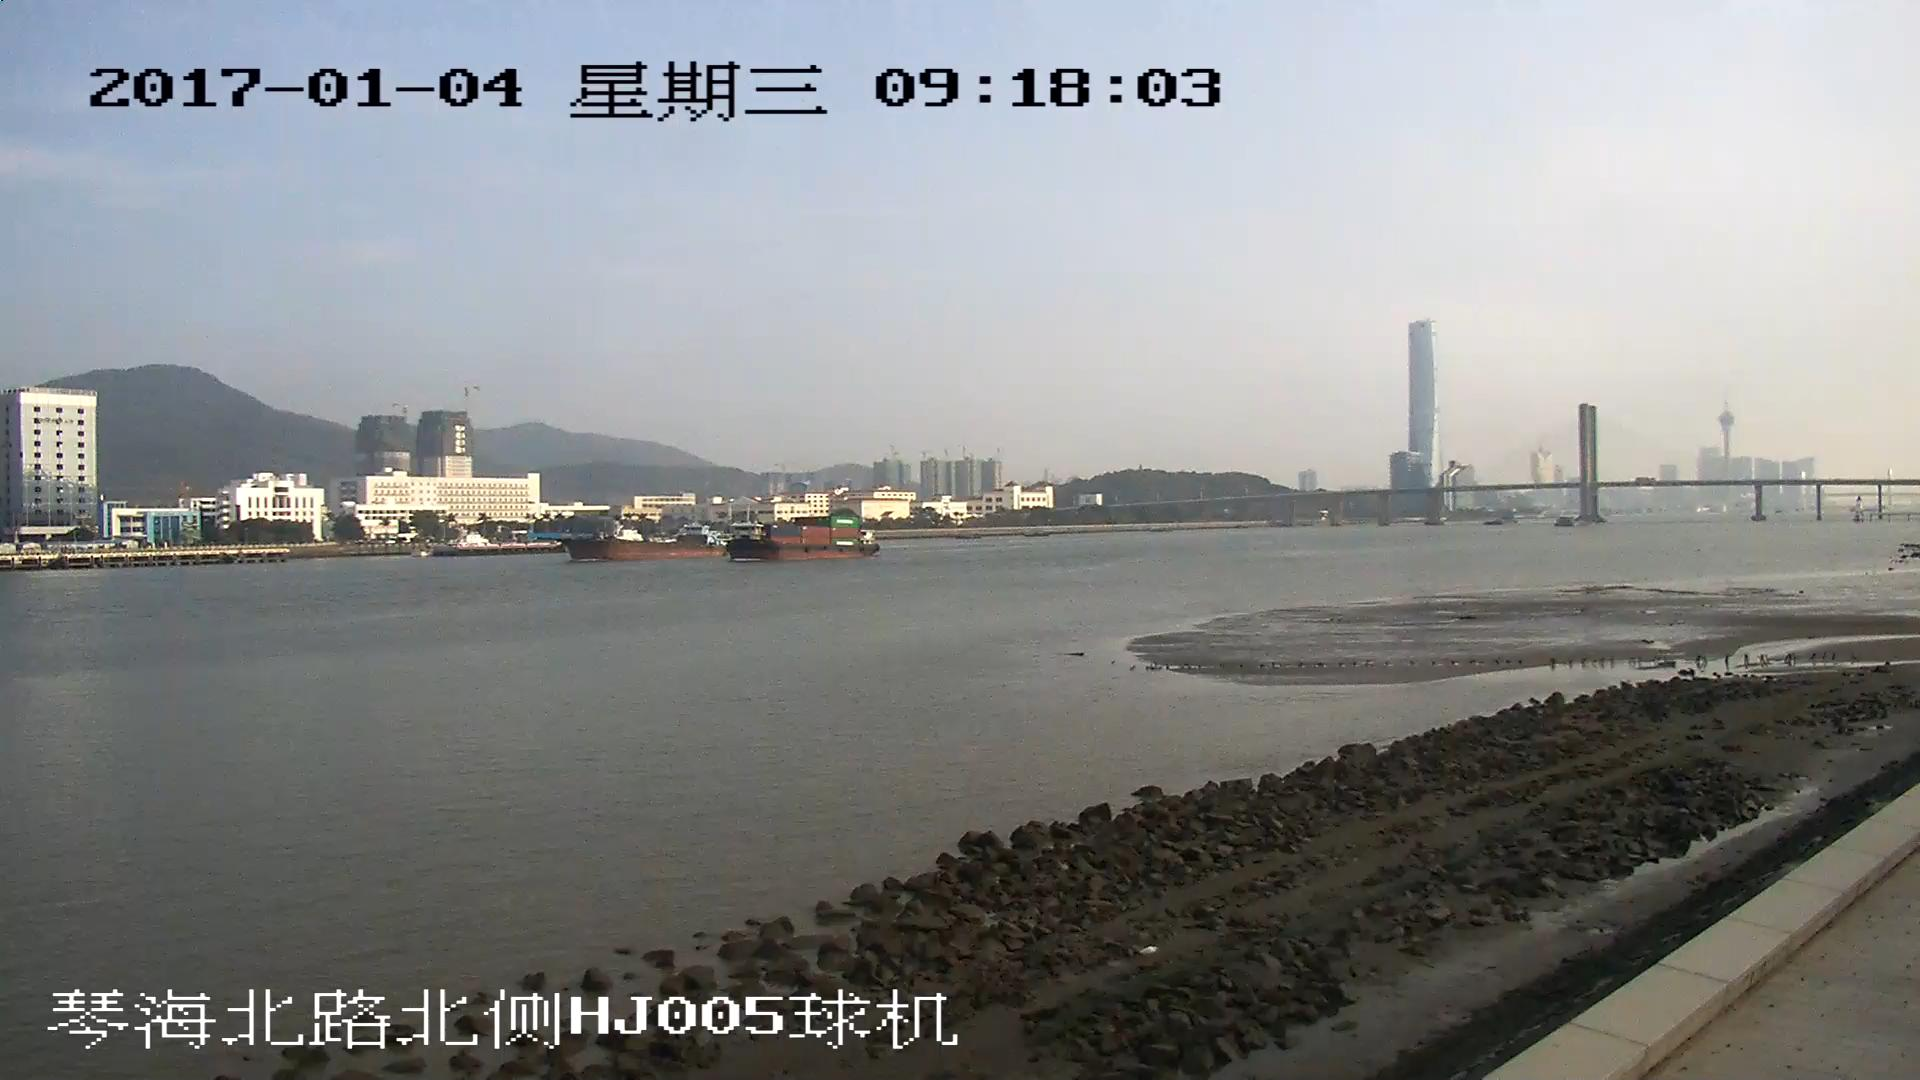container ship: (724, 512, 880, 563)
